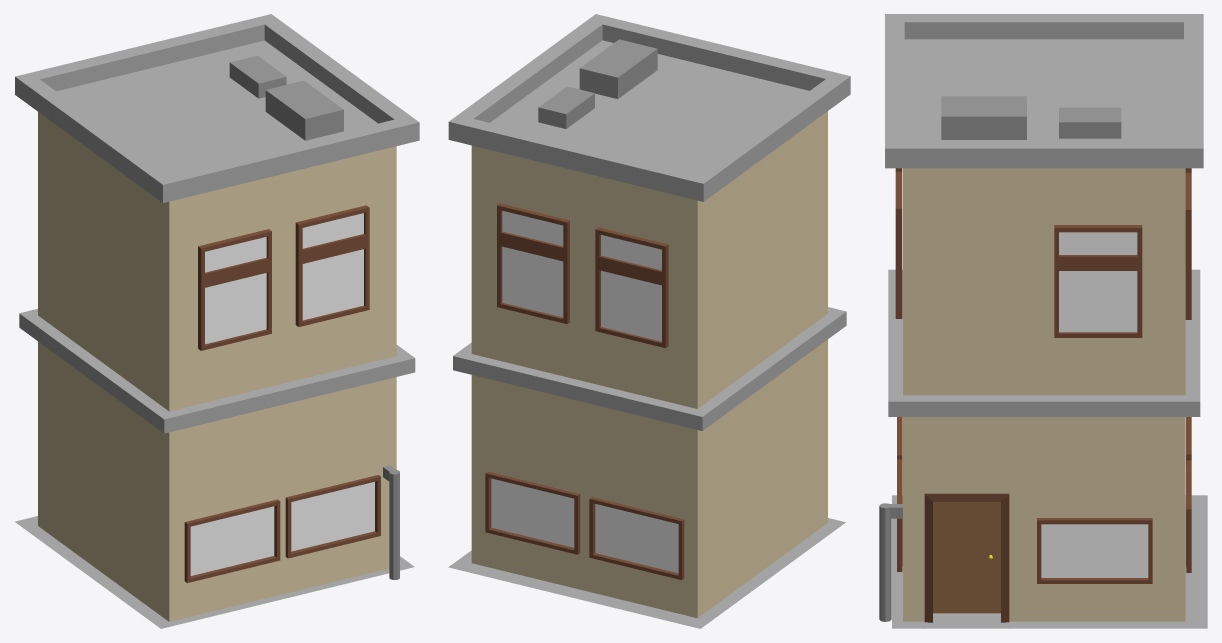
File: single-building2.glb
The picture shows the model from 3 angles, left to right: view 1: azimuth 30°, elevation 25°; view 2: azimuth 150°, elevation 25°; view 3: azimuth 270°, elevation 25°; orthographic projection. The views are drawn at different scales.
Visible parts, largest first — view 1: Cube; view 2: Cube; view 3: Cube.
Part boxes in pixels (x1=…): Cube: x1=15, y1=14, x2=419, y2=628; Cube: x1=448, y1=14, x2=850, y2=628; Cube: x1=879, y1=14, x2=1207, y2=628.
Bounding box in the file's own units: 6.02 × 10.28 × 6.2.
1 material, 1 textured.
